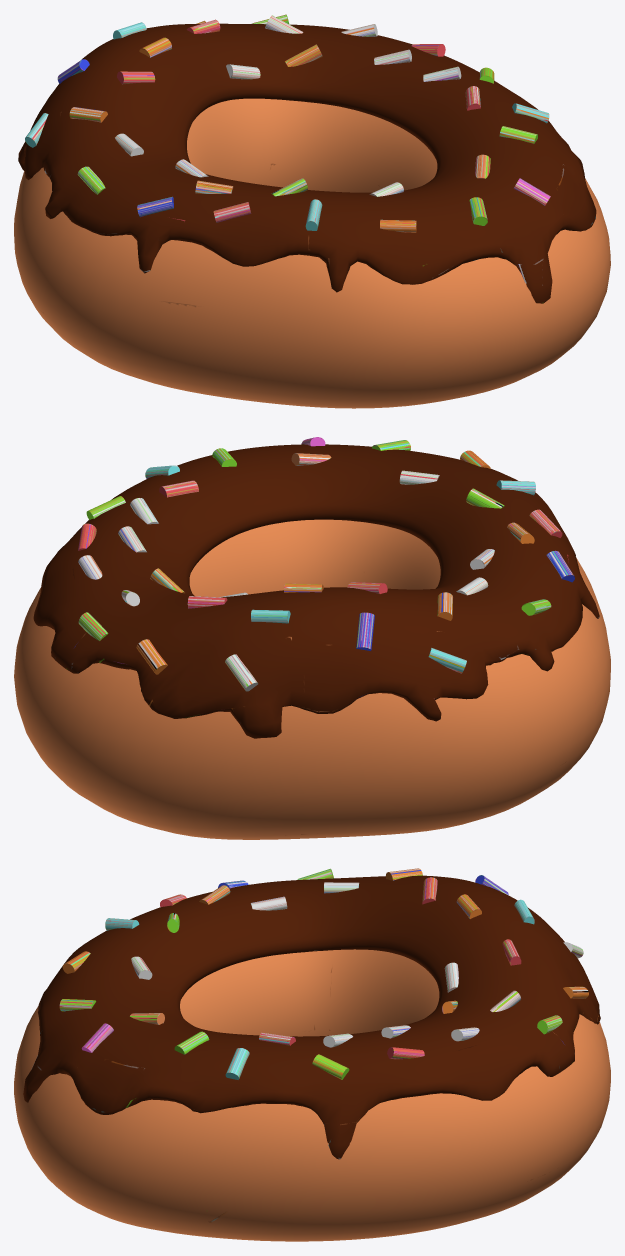
File: donut.glb
3 renders of one model, top to bottom at view 1: azimuth 30°, elevation 25°; view 2: azimuth 150°, elevation 25°; view 3: azimuth 270°, elevation 25°, orthographic. The views are drawn at different scales.
Bounding box in the file's own units: 2.72 × 1.25 × 2.96.
1 material, 1 textured.
